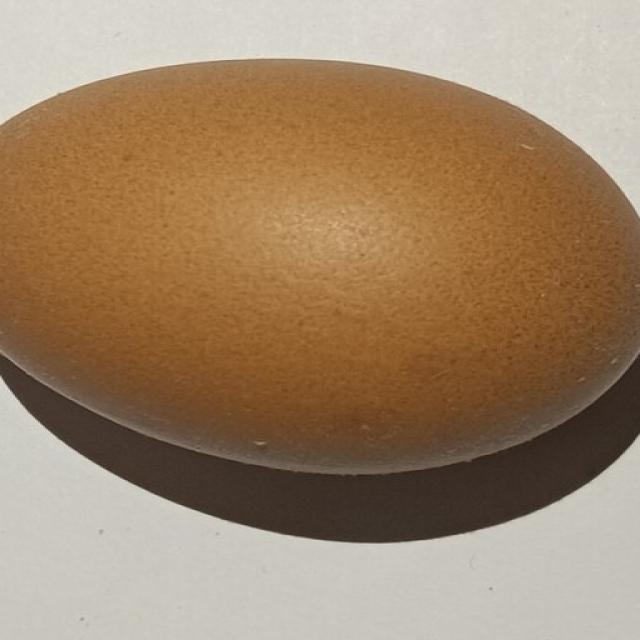unfresh: (0, 48, 640, 480)
